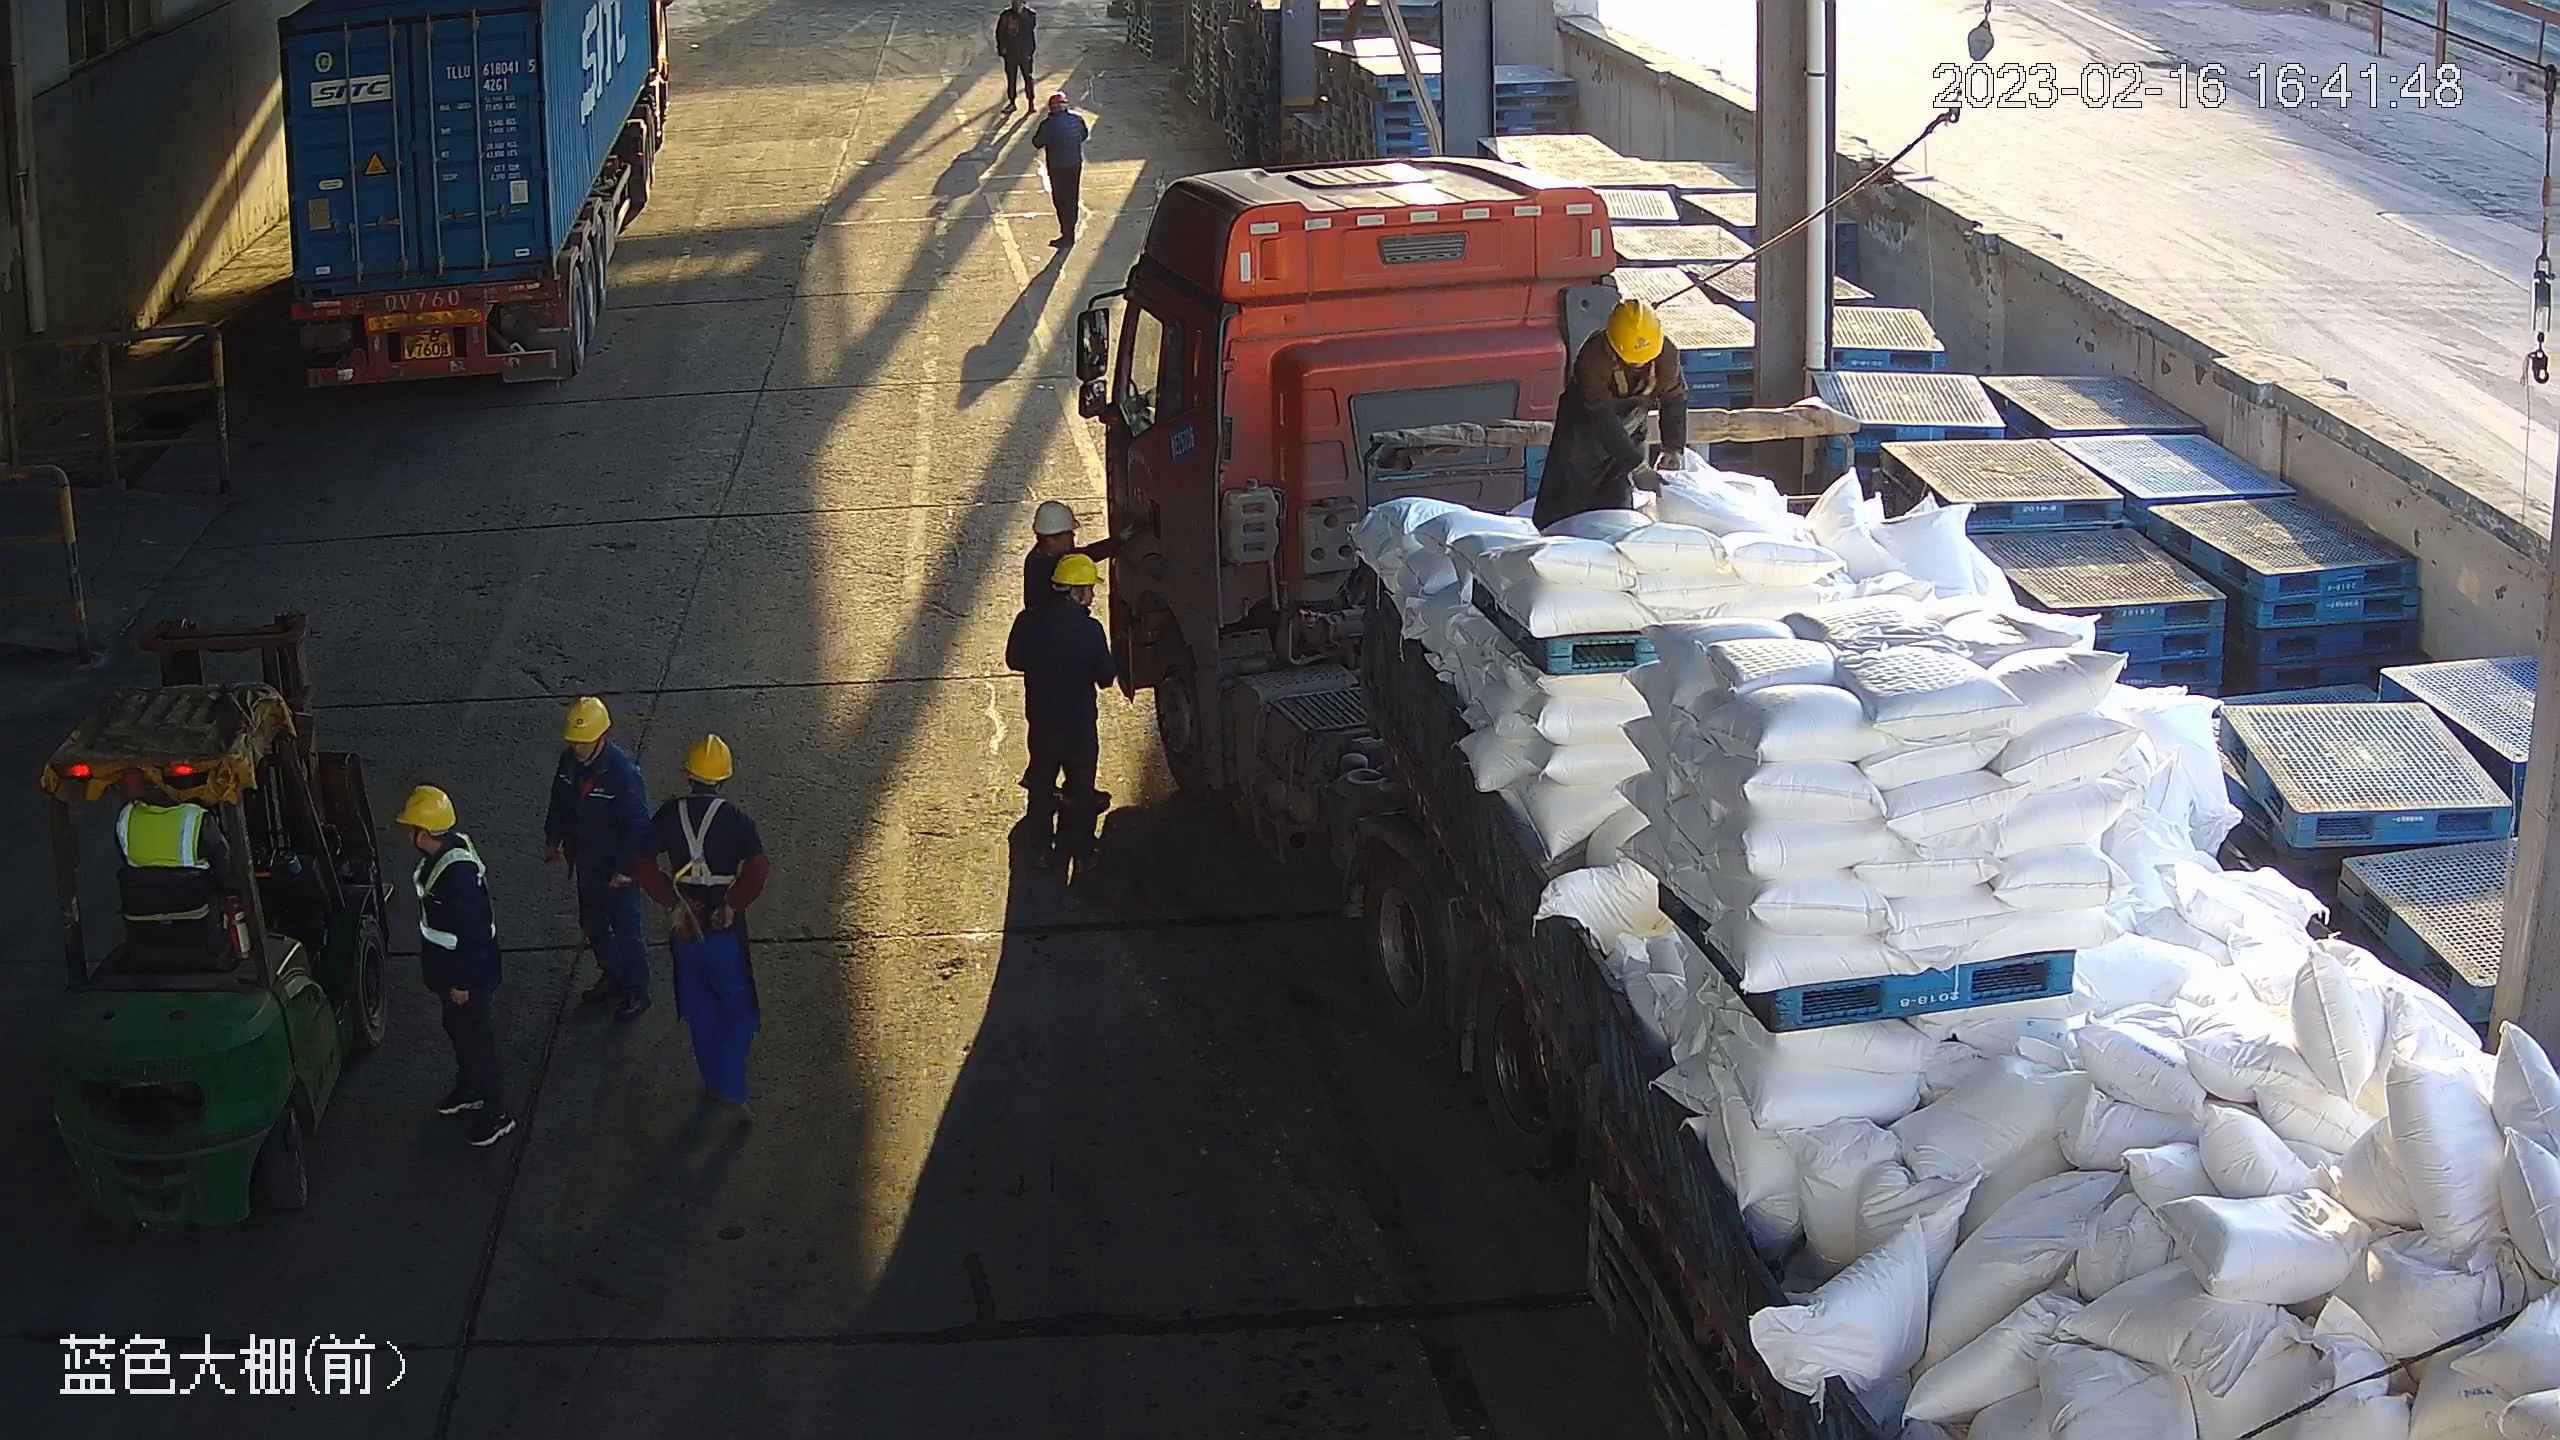belt: (665, 796, 737, 887), (1600, 352, 1663, 403)
head: (639, 730, 755, 854), (1021, 498, 1137, 596), (543, 692, 643, 805), (390, 783, 486, 900), (1571, 297, 1681, 392), (1016, 555, 1107, 645), (1031, 91, 1088, 143), (996, 1, 1036, 36)
helmet: (1607, 298, 1665, 363), (394, 783, 457, 831), (560, 692, 610, 742), (683, 733, 732, 783), (1052, 553, 1104, 588), (1031, 501, 1078, 535), (1048, 92, 1066, 102)
people: (634, 731, 770, 1125), (392, 784, 518, 1147), (1534, 297, 1688, 531), (1004, 554, 1116, 873), (544, 696, 650, 1022), (1033, 90, 1087, 245), (993, 3, 1036, 116)
truck: (1067, 150, 2560, 1440), (271, 5, 679, 391)
